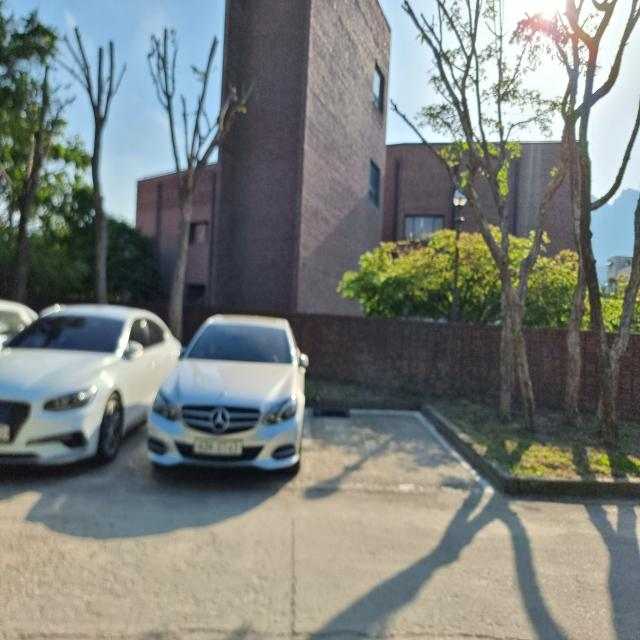empty: (301, 416, 488, 482)
occupied: (0, 314, 179, 472), (141, 318, 302, 480)
